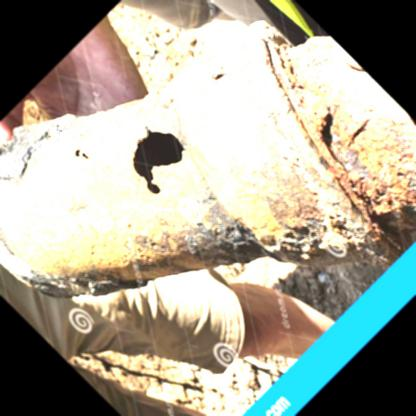burst: (124, 128, 205, 208)
